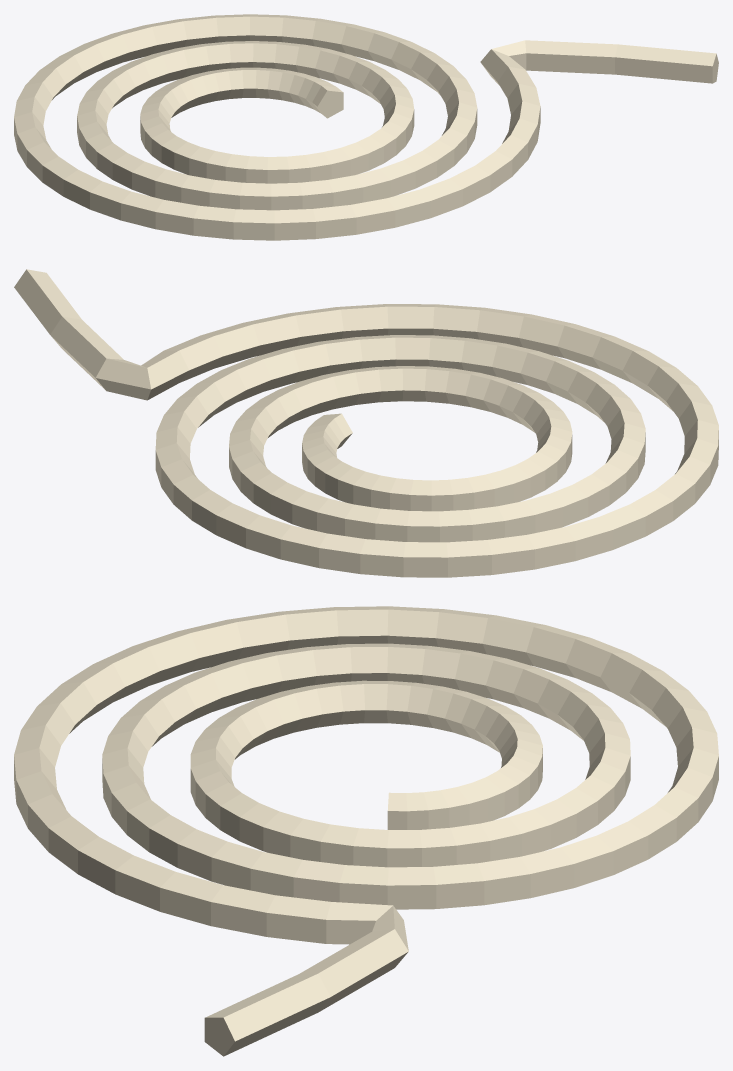
The model's file is AC_Coiled_Rope.glb.
The picture shows the model from 3 angles, top to bottom: view 1: azimuth 30°, elevation 25°; view 2: azimuth 150°, elevation 25°; view 3: azimuth 270°, elevation 25°; orthographic projection. The views are drawn at different scales.
Parts seen in each view (by area): view 1: AC_Coiled_Rope; view 2: AC_Coiled_Rope; view 3: AC_Coiled_Rope.
Part boxes in pixels (x1,y1,x2,y2): AC_Coiled_Rope: (14, 14, 718, 240); AC_Coiled_Rope: (14, 269, 718, 577); AC_Coiled_Rope: (14, 606, 718, 1056).
Size of the model in its own units: 1.06 by 0.0457 by 0.7455.
